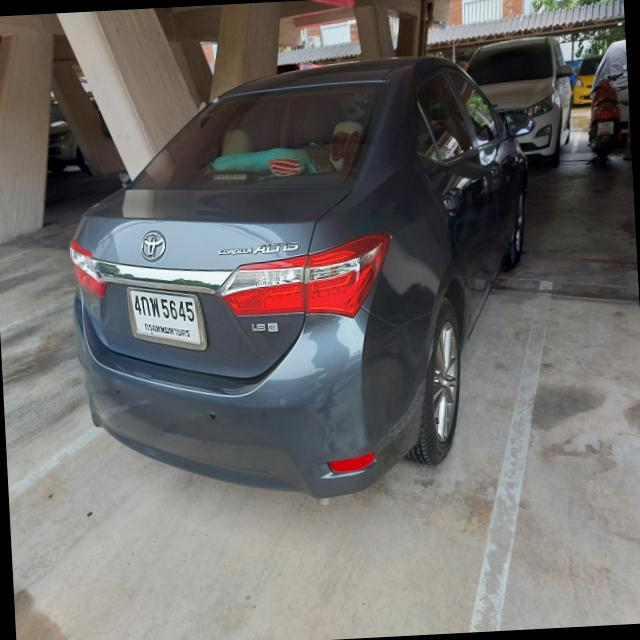license_plate: (124, 279, 211, 357)
